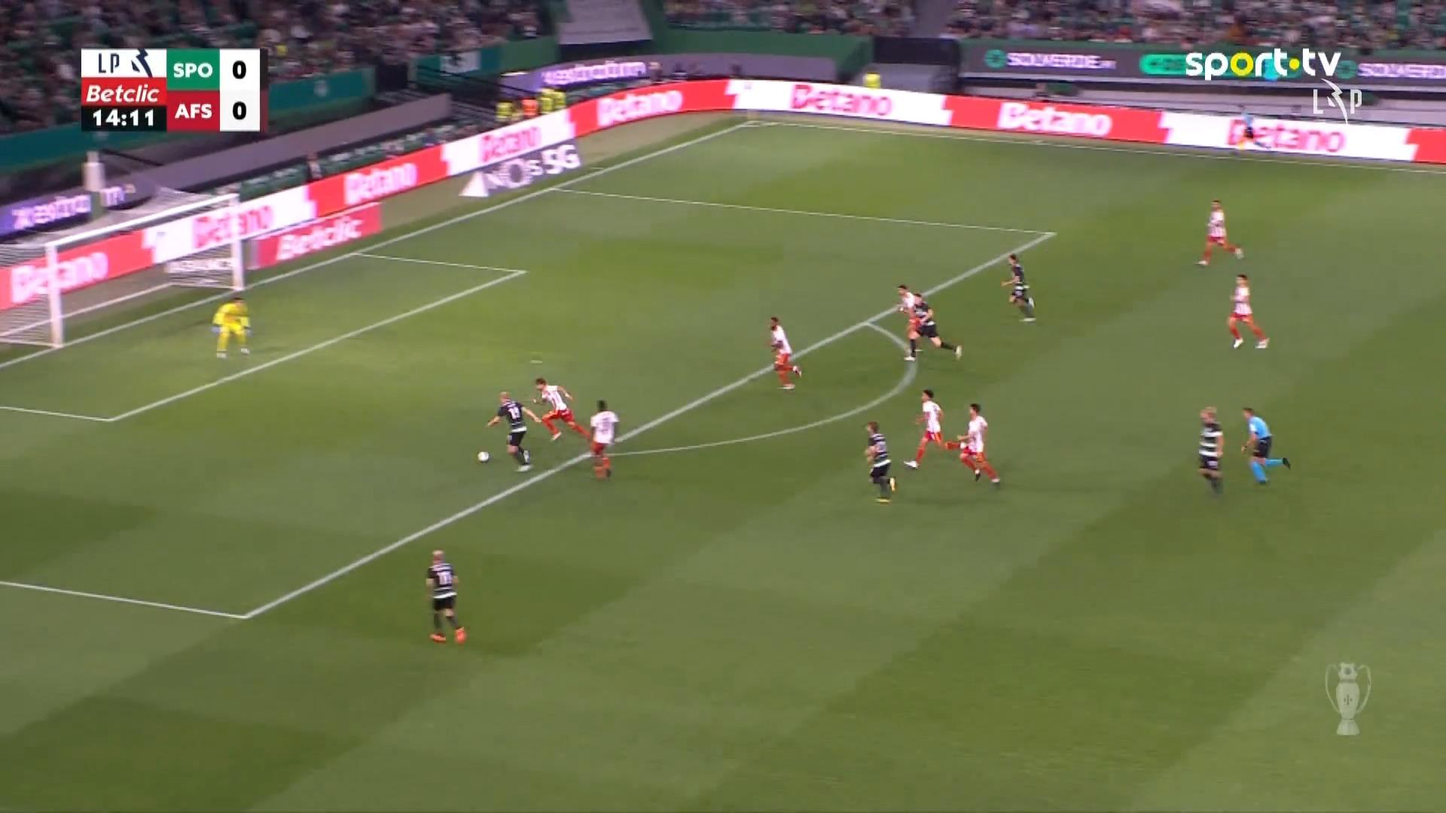ball: (477, 450, 489, 462)
goalkeeper: (210, 296, 252, 359)
player: (895, 283, 962, 362), (485, 390, 541, 472), (901, 388, 950, 469), (425, 549, 466, 644), (955, 402, 1001, 486), (532, 376, 590, 441), (1194, 198, 1244, 266), (1226, 273, 1269, 349), (862, 420, 896, 504), (1195, 406, 1225, 495), (767, 315, 802, 390), (1000, 251, 1036, 322), (587, 398, 618, 479), (895, 284, 926, 361)
referee: (1240, 405, 1291, 485), (1231, 102, 1272, 159)
